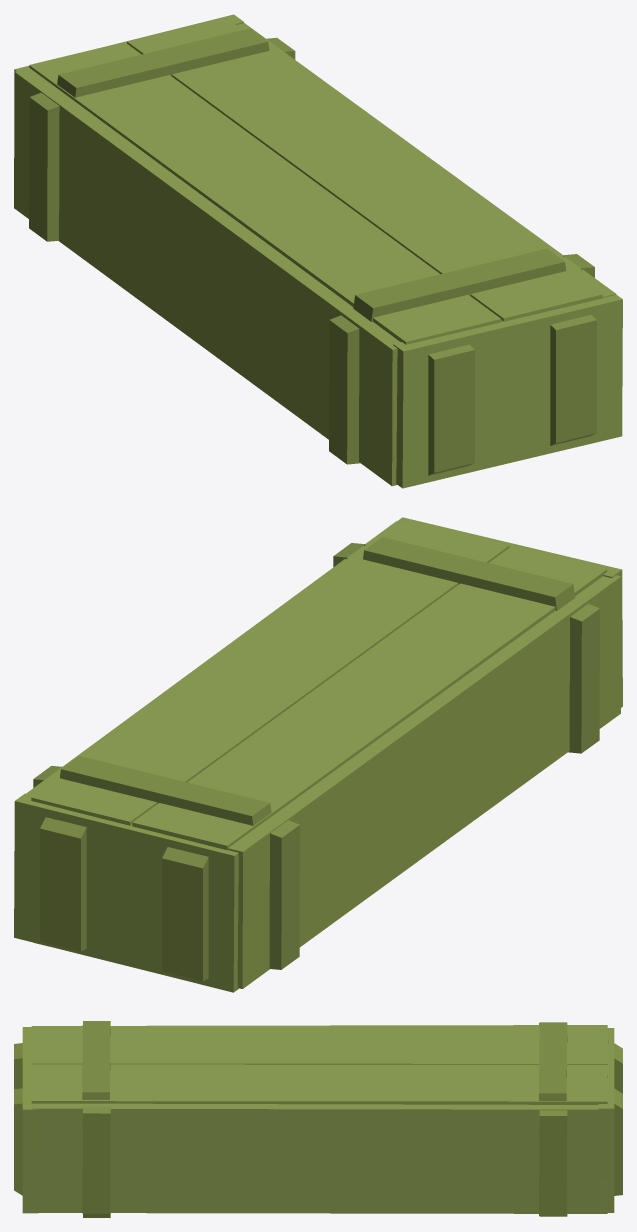
Rendered from Amo_Box_2.FBX.
3 renders of one model, top to bottom at view 1: azimuth 30°, elevation 25°; view 2: azimuth 150°, elevation 25°; view 3: azimuth 270°, elevation 25°, orthographic. The views are drawn at different scales.
Visible parts, largest first — view 1: Amo_Box_2; view 2: Amo_Box_2; view 3: Amo_Box_2.
Part boxes in pixels (x1,y1,x2,y2): Amo_Box_2: (14,14,622,488); Amo_Box_2: (14,517,622,992); Amo_Box_2: (14,1021,622,1217).
Bounding box in the file's own units: 0.6394 × 0.4014 × 1.79.
Materials: 1 (1 with a texture image).
